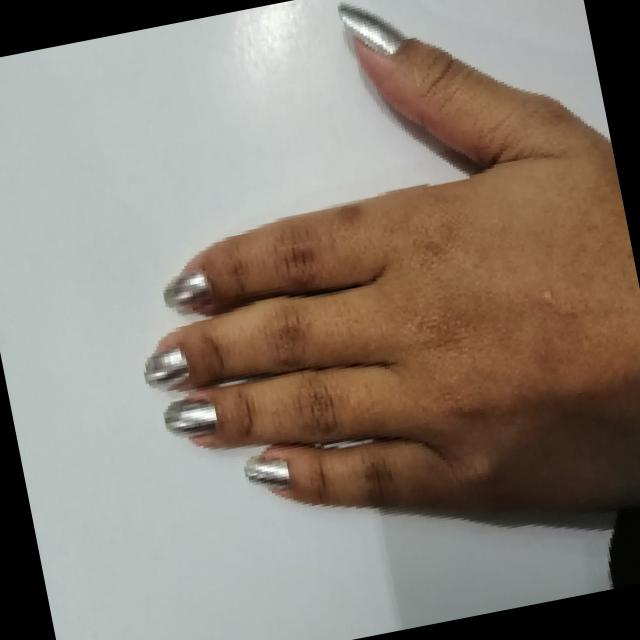Nail: (338, 3, 403, 54), (164, 399, 217, 435), (163, 271, 210, 309), (144, 348, 188, 388), (244, 458, 290, 485)
